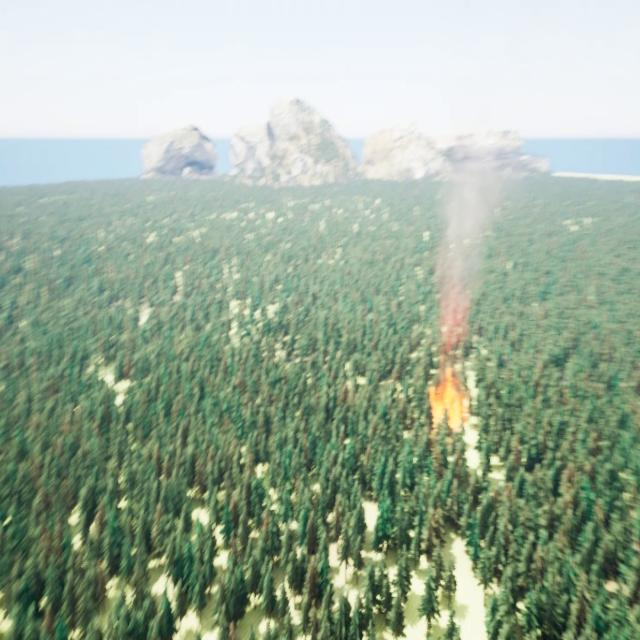fire: (426, 363, 471, 431)
smoke: (434, 144, 506, 353)
